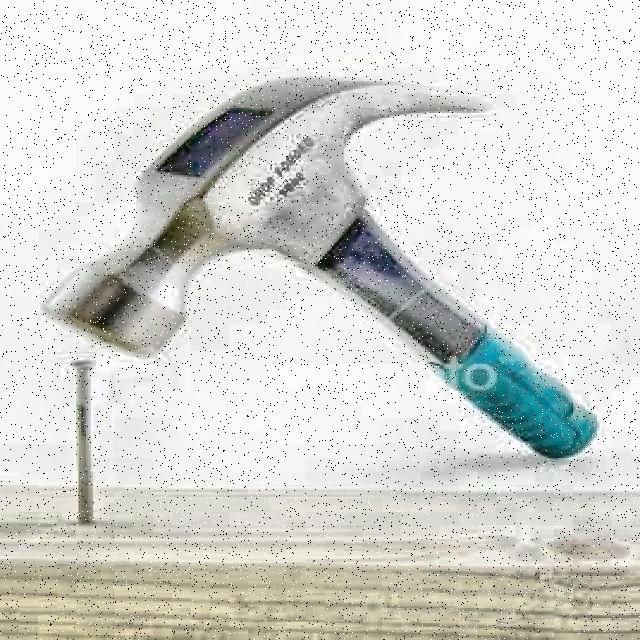hammer: (44, 72, 600, 460)
